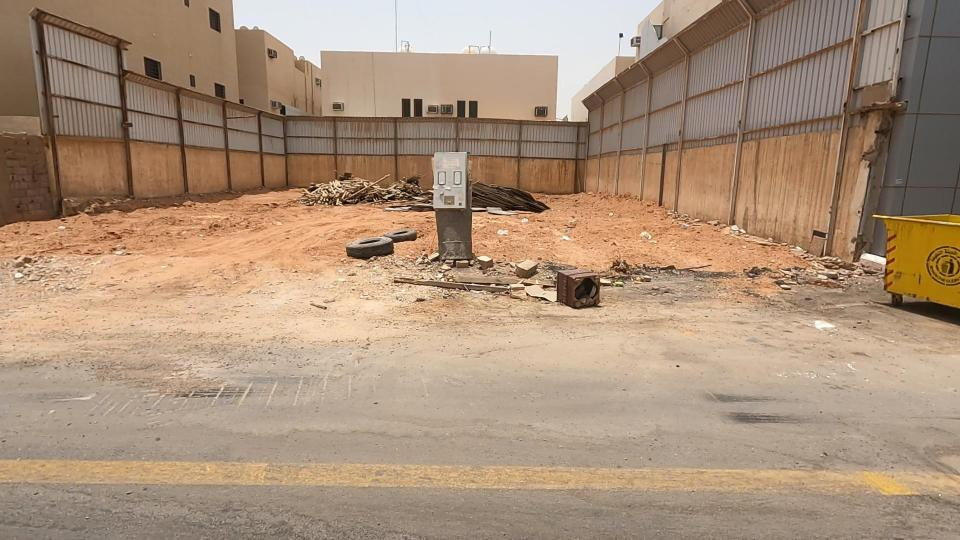GARBAGE: (253, 136, 507, 256), (347, 211, 570, 333), (470, 226, 644, 337), (445, 148, 583, 256), (307, 200, 462, 290), (750, 221, 859, 317), (750, 283, 869, 361), (677, 186, 760, 269), (605, 205, 666, 269)
